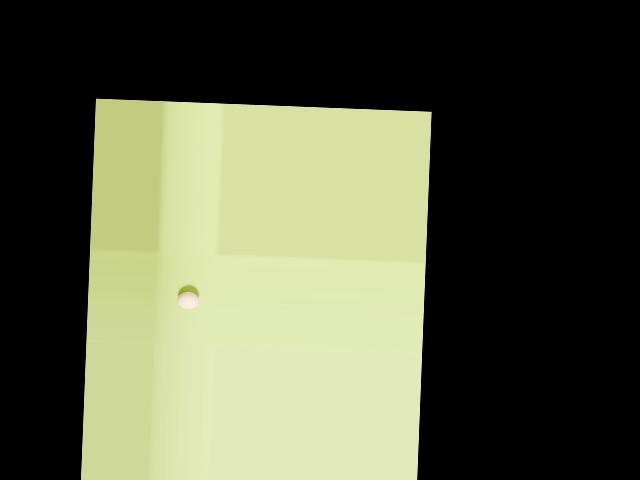egg: (176, 291, 198, 308)
